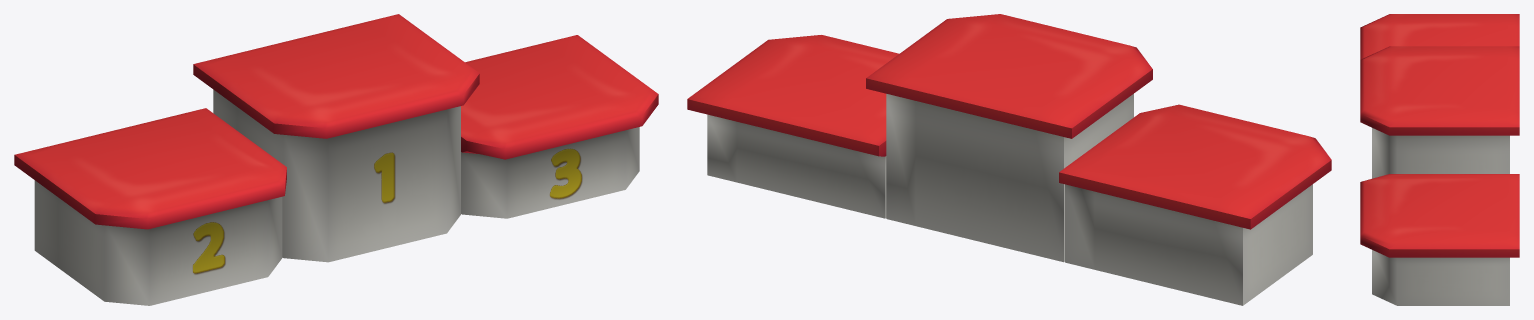
File: result.fbx
3 views of the same model, side by side, from view 1: azimuth 30°, elevation 25°; view 2: azimuth 150°, elevation 25°; view 3: azimuth 270°, elevation 25° (orthographic). The views are drawn at different scales.
Parts seen in each view (by area): view 1: cube, polymsh_detached, polymsh_detached1; view 2: cube, polymsh_detached, polymsh_detached1; view 3: polymsh_detached1, cube, polymsh_detached.
Part boxes in pixels (x1,y1,x2,y2): cube: [193, 14, 479, 262]; polymsh_detached: [14, 108, 286, 305]; polymsh_detached1: [461, 35, 658, 218]; cube: [866, 14, 1152, 262]; polymsh_detached: [1059, 104, 1331, 305]; polymsh_detached1: [687, 35, 898, 218]; polymsh_detached1: [1360, 174, 1519, 305]; cube: [1360, 46, 1519, 178]; polymsh_detached: [1360, 14, 1519, 59].
Size of the model in its own units: 558 by 141 by 170.
Materials: 1 (1 with a texture image).
